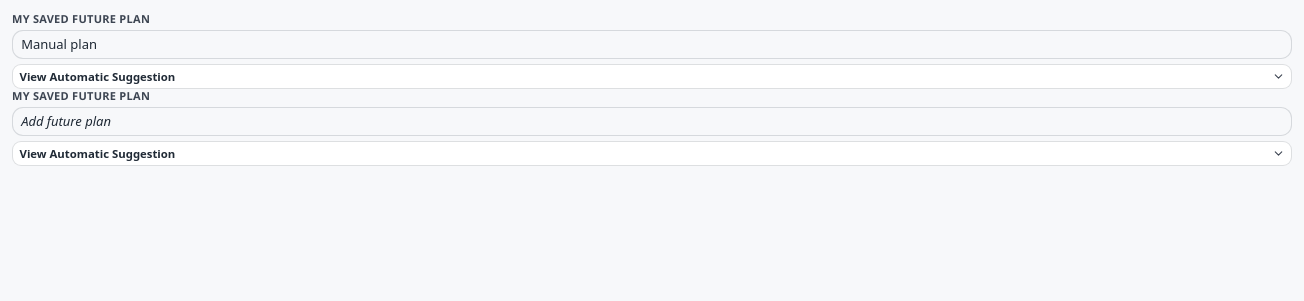
Test: FuturePlanCell › expands only after click; second driver stays collapsed
Step 1. Click the 1st button "View Automatic Suggestion" → (97, 76), box [12,64,1292,89]
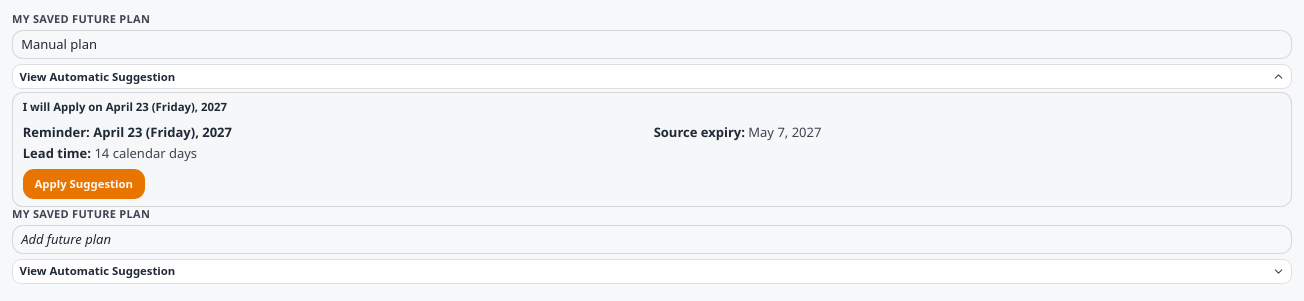
Check: the 1st button "View Automatic Suggestion" is expanded, box [12,64,1292,89]
Check: the button "Apply Suggestion" is shown, box [23,169,145,199]
Check: the text "Source expiry:" is shown, box [654,122,748,140]
// Opening the other driver collapses the first (accordion)
Step 2. Click the 2nd button "View Automatic Suggestion" → (97, 271), box [12,259,1292,284]
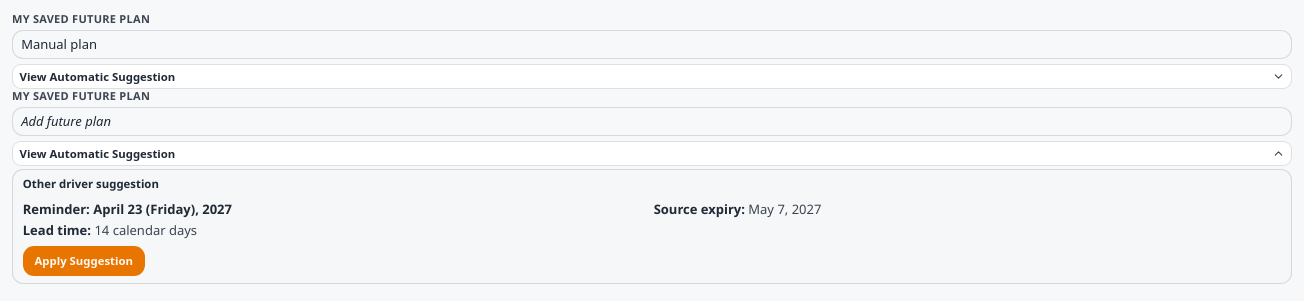
Check: the 1st button "View Automatic Suggestion" is collapsed, box [12,64,1292,89]
Check: the 2nd button "View Automatic Suggestion" is expanded, box [12,141,1292,166]
